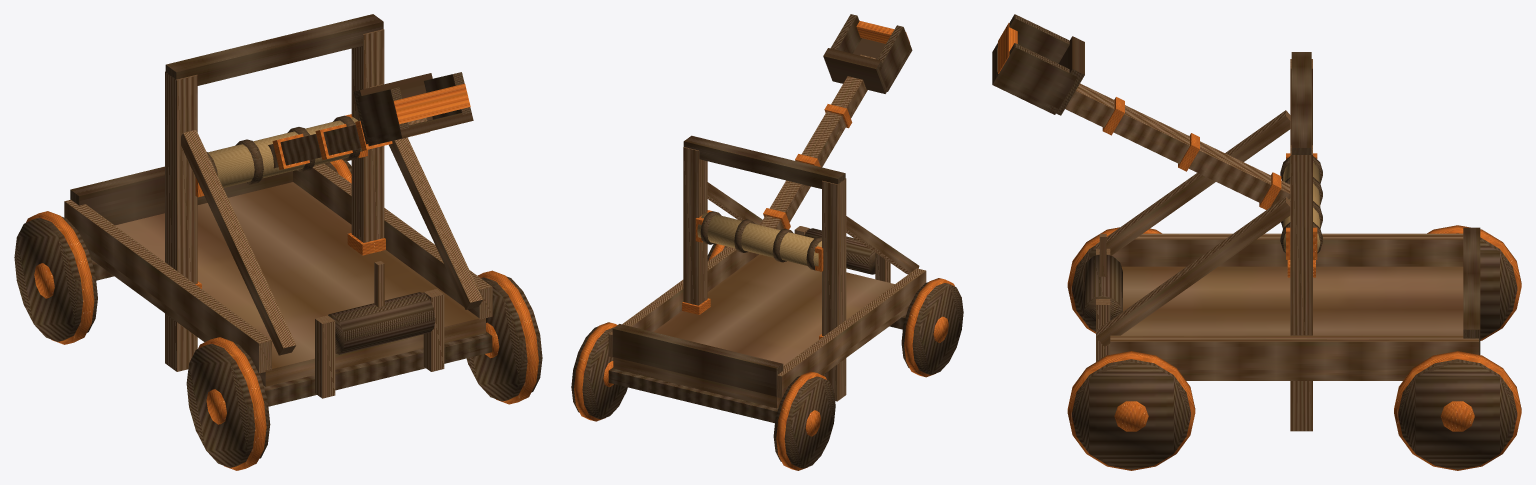
File: ae_catapult_small_bronze_lod0.glb
3 renders of one model, left to right at view 1: azimuth 30°, elevation 25°; view 2: azimuth 150°, elevation 25°; view 3: azimuth 270°, elevation 25°, orthographic. The views are drawn at different scales.
Visible parts, largest first — view 1: bed, sideL, post_L, wheel_FL_rim, wheel_RL_rim, cross_top, sideR, brace_-0.72, post_R, wheel_RR_rim, front_stop, winch_drum (+16 smaller); view 2: bed, front_stop, sideL, post_L, wheel_RL_rim, wheel_FL_rim, post_R, arm_beam, cross_top, skein, sideR, axle_front (+12 smaller); view 3: bed, sideR, wheel_FR_rim, wheel_RR_rim, sideL, arm_beam, post_R, brace_0.72, brace_-0.72, spoon_R, wheel_FL_rim, cross_top (+15 smaller).
Boxes of the visible parts, box(x1,y1,x2,y2) form: bed: box(87, 182, 485, 386); sideL: box(64, 199, 271, 373); post_L: box(165, 71, 197, 371); wheel_FL_rim: box(14, 217, 97, 341); wheel_RL_rim: box(186, 343, 270, 467); cross_top: box(165, 14, 383, 85); sideR: box(293, 163, 492, 319); brace_-0.72: box(181, 130, 296, 355); post_R: box(351, 29, 384, 242); wheel_RR_rim: box(466, 276, 542, 401); front_stop: box(70, 166, 292, 225); winch_drum: box(328, 292, 435, 354); bed: box(613, 254, 909, 408); front_stop: box(612, 324, 783, 396); sideL: box(776, 268, 926, 398); post_L: box(822, 178, 846, 401); wheel_RL_rim: box(901, 282, 963, 374); wheel_FL_rim: box(773, 376, 835, 468); post_R: box(683, 147, 707, 305); arm_beam: box(760, 54, 876, 229); cross_top: box(683, 135, 845, 188); skein: box(697, 212, 821, 266); sideR: box(608, 246, 758, 357); axle_front: box(608, 367, 778, 423); bed: box(1121, 266, 1463, 380); sideR: box(1110, 335, 1478, 369); wheel_FR_rim: box(1398, 359, 1517, 469); wheel_RR_rim: box(1072, 359, 1190, 469); sideL: box(1110, 233, 1463, 266); arm_beam: box(1065, 83, 1290, 206); post_R: box(1290, 145, 1312, 431); brace_0.72: box(1096, 196, 1290, 346); brace_-0.72: box(1096, 110, 1290, 255); spoon_R: box(996, 43, 1076, 108); wheel_FL_rim: box(1456, 233, 1517, 339); cross_top: box(1291, 52, 1311, 154).
Bounding box in the file's own units: 2.3 × 2.92 × 3.73.
3 materials, 3 textured.
